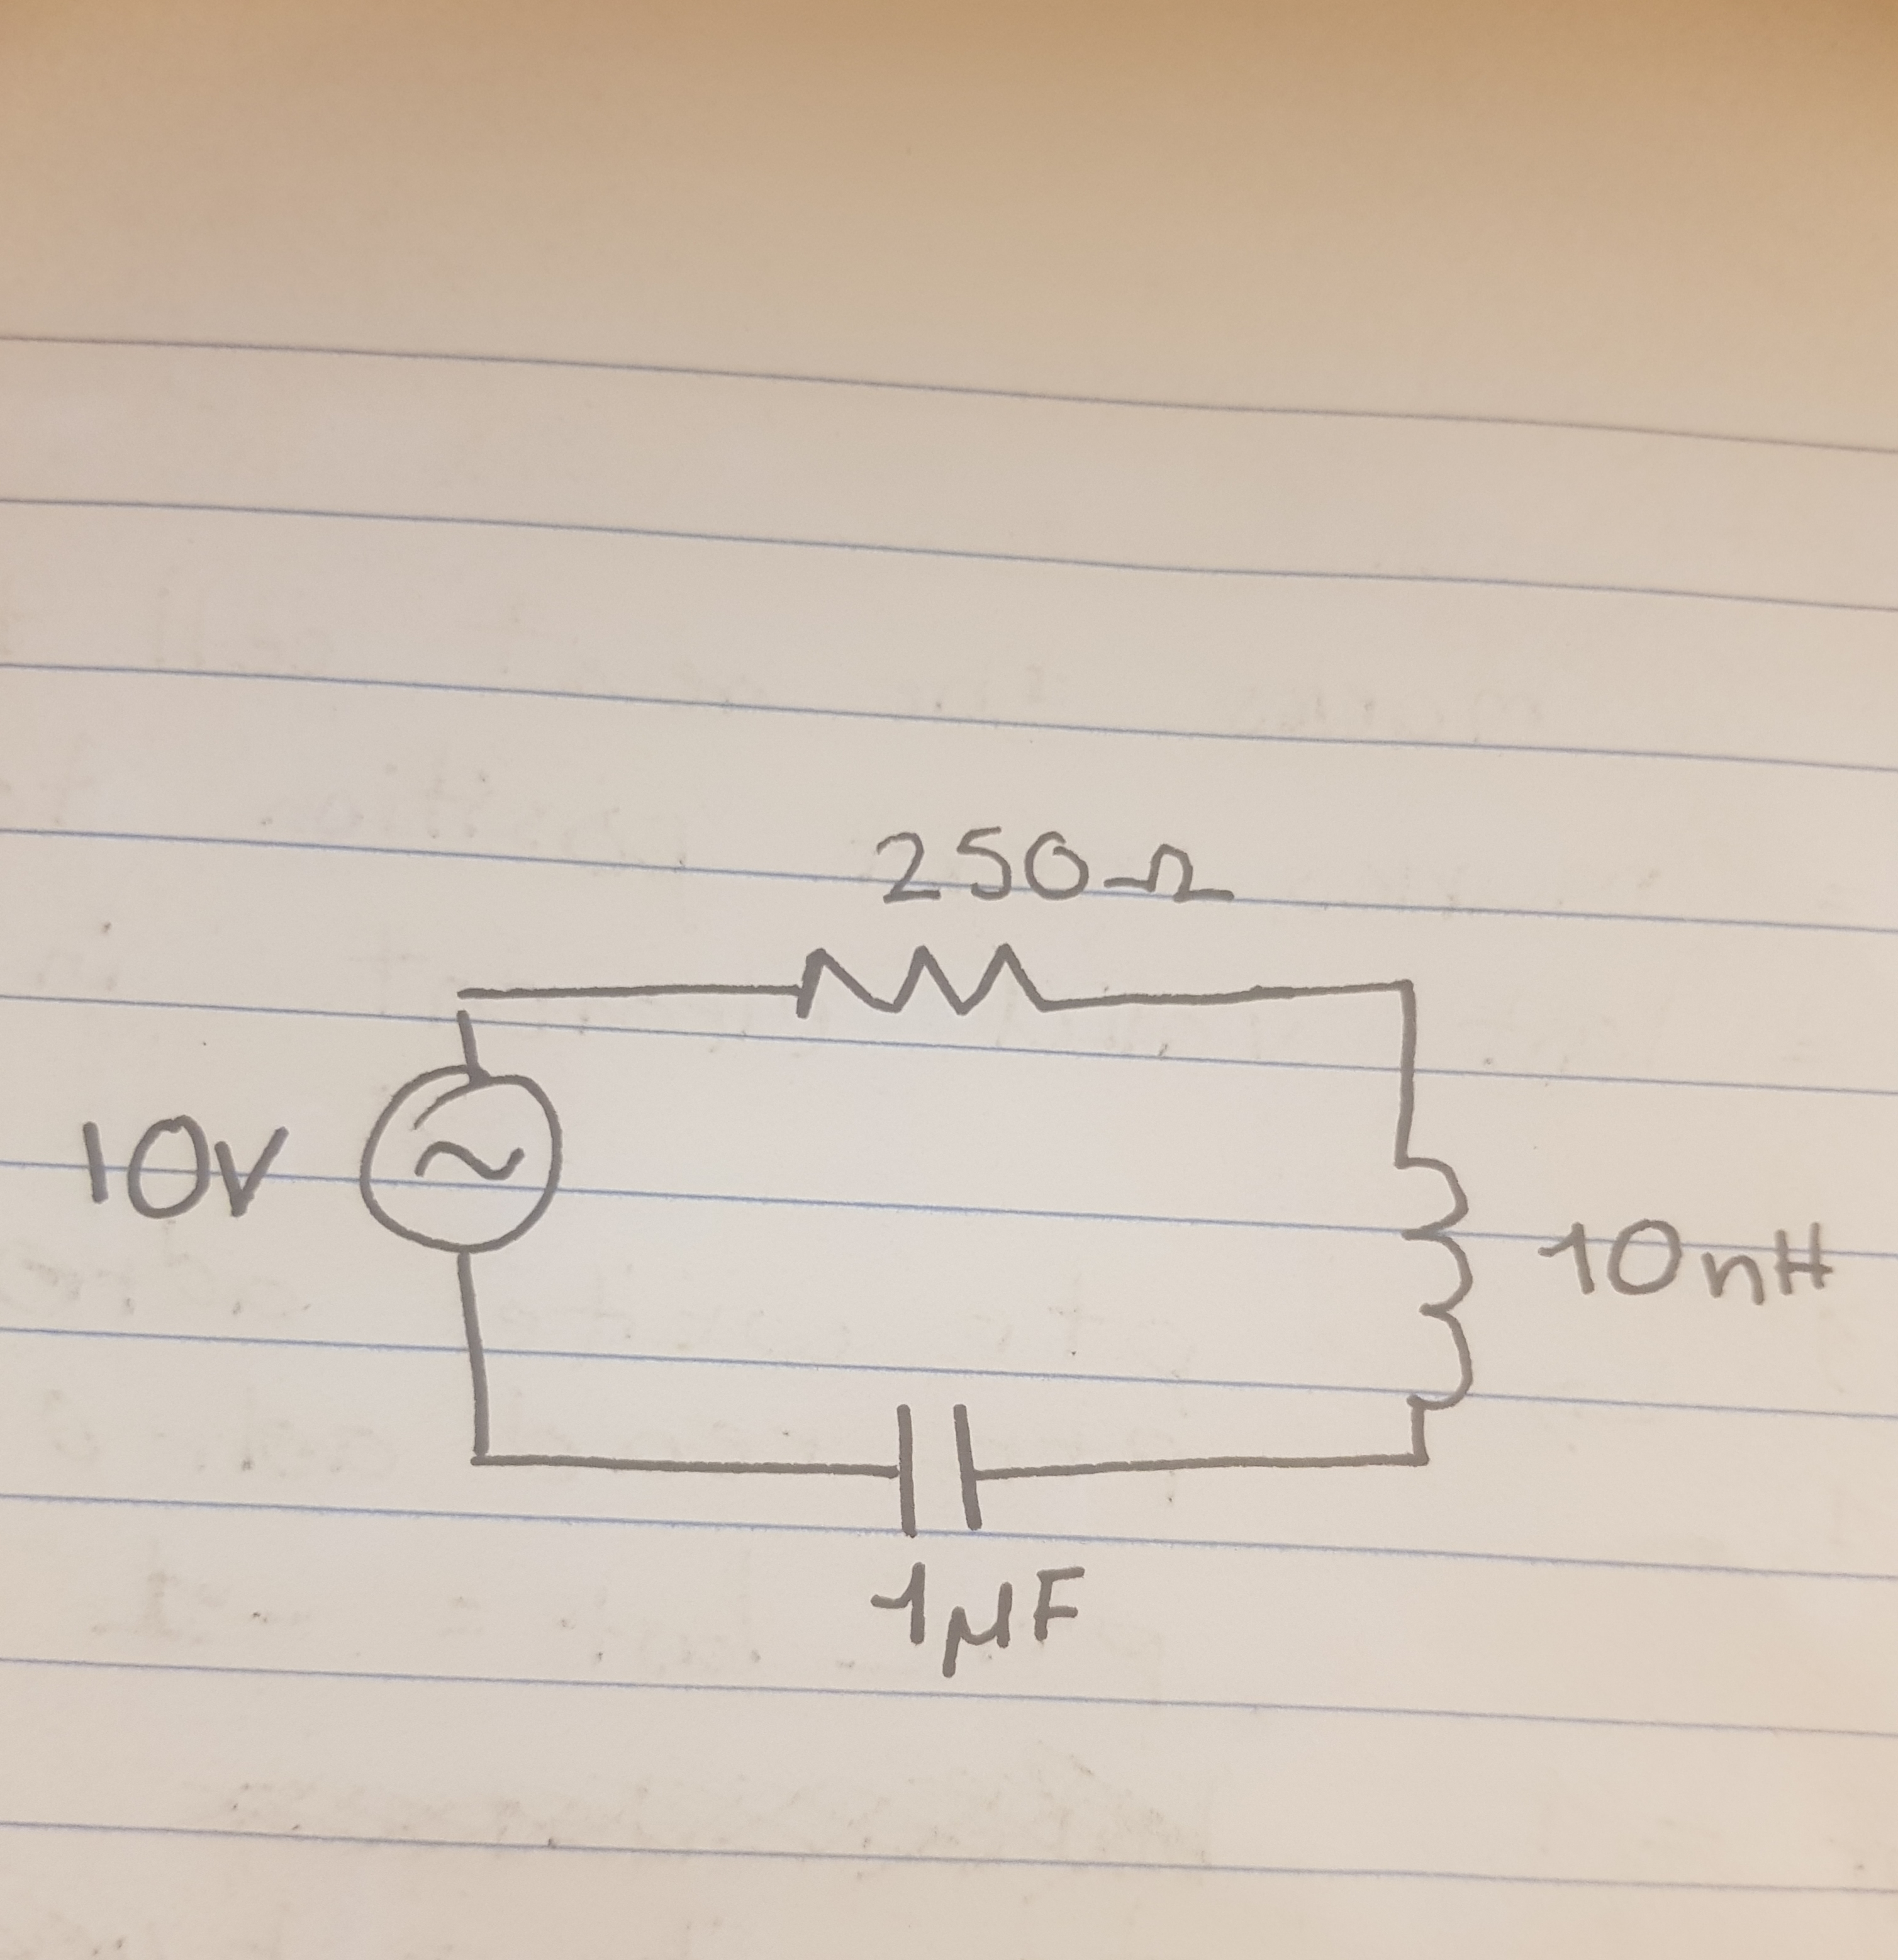capacitor.unpolarized: (871, 1391, 999, 1554)
inductor: (1377, 1141, 1489, 1407)
junction: (448, 1421, 509, 1491), (1371, 957, 1440, 1017), (434, 966, 497, 1017), (1394, 1445, 1452, 1496)
resistor: (771, 927, 1085, 1038)
text: (859, 814, 1228, 919), (1524, 1206, 1839, 1318), (855, 1557, 1102, 1690), (56, 1109, 304, 1227)
voltage.dc: (350, 1066, 569, 1263)
